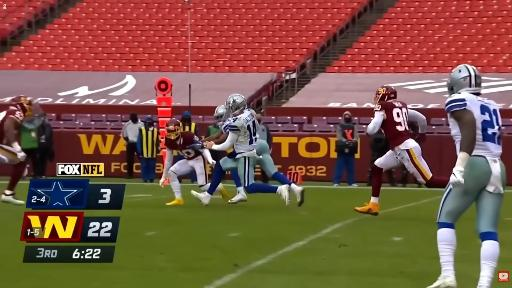Helmet: (447, 65, 481, 95), (225, 94, 247, 116), (10, 96, 32, 117), (374, 86, 397, 104), (166, 119, 181, 139), (214, 106, 226, 125)
Jersey: (445, 92, 502, 158), (375, 101, 410, 149), (227, 109, 258, 153), (165, 132, 201, 159), (0, 109, 24, 144), (221, 119, 230, 133)
Player: (429, 65, 505, 287), (355, 86, 448, 215), (192, 94, 289, 205), (160, 119, 215, 205), (0, 96, 42, 205), (256, 139, 304, 206), (204, 105, 227, 143)
